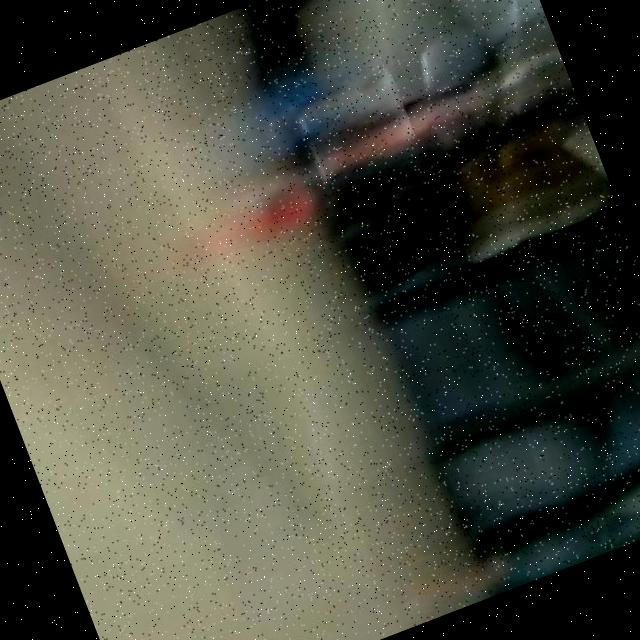ping-pong-ball: (256, 182, 326, 245)
